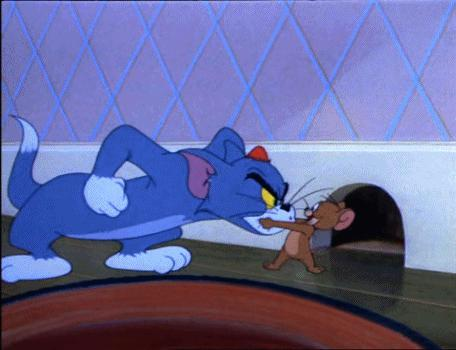jerry: (258, 193, 357, 276)
